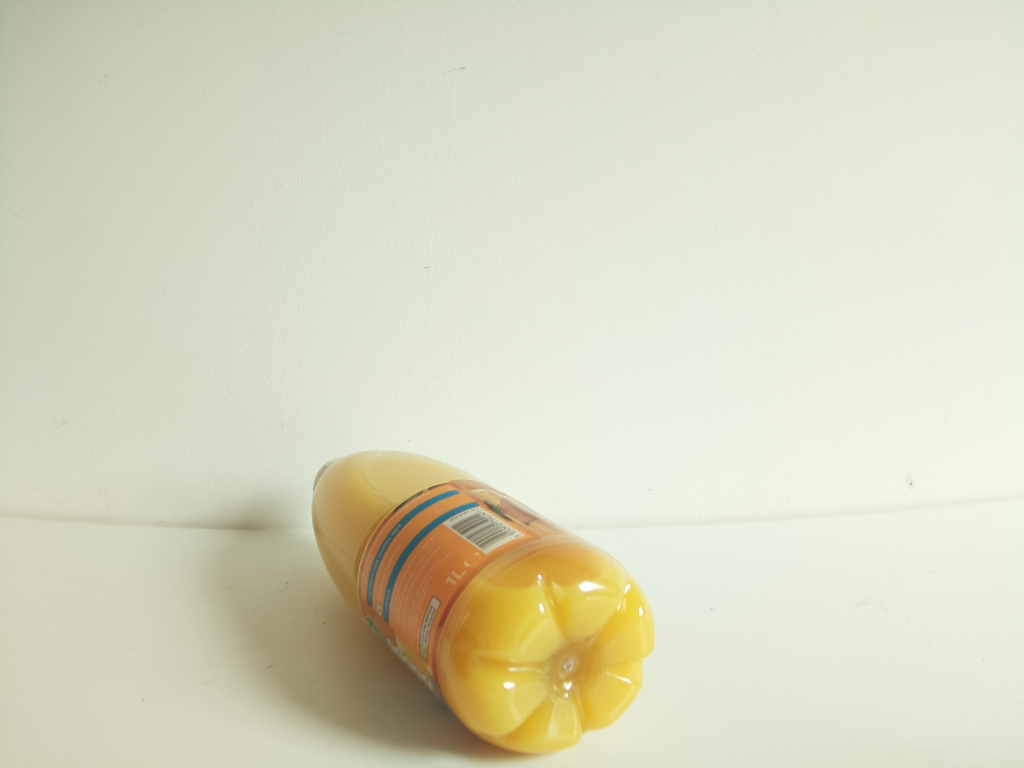juice: (305, 445, 652, 756)
